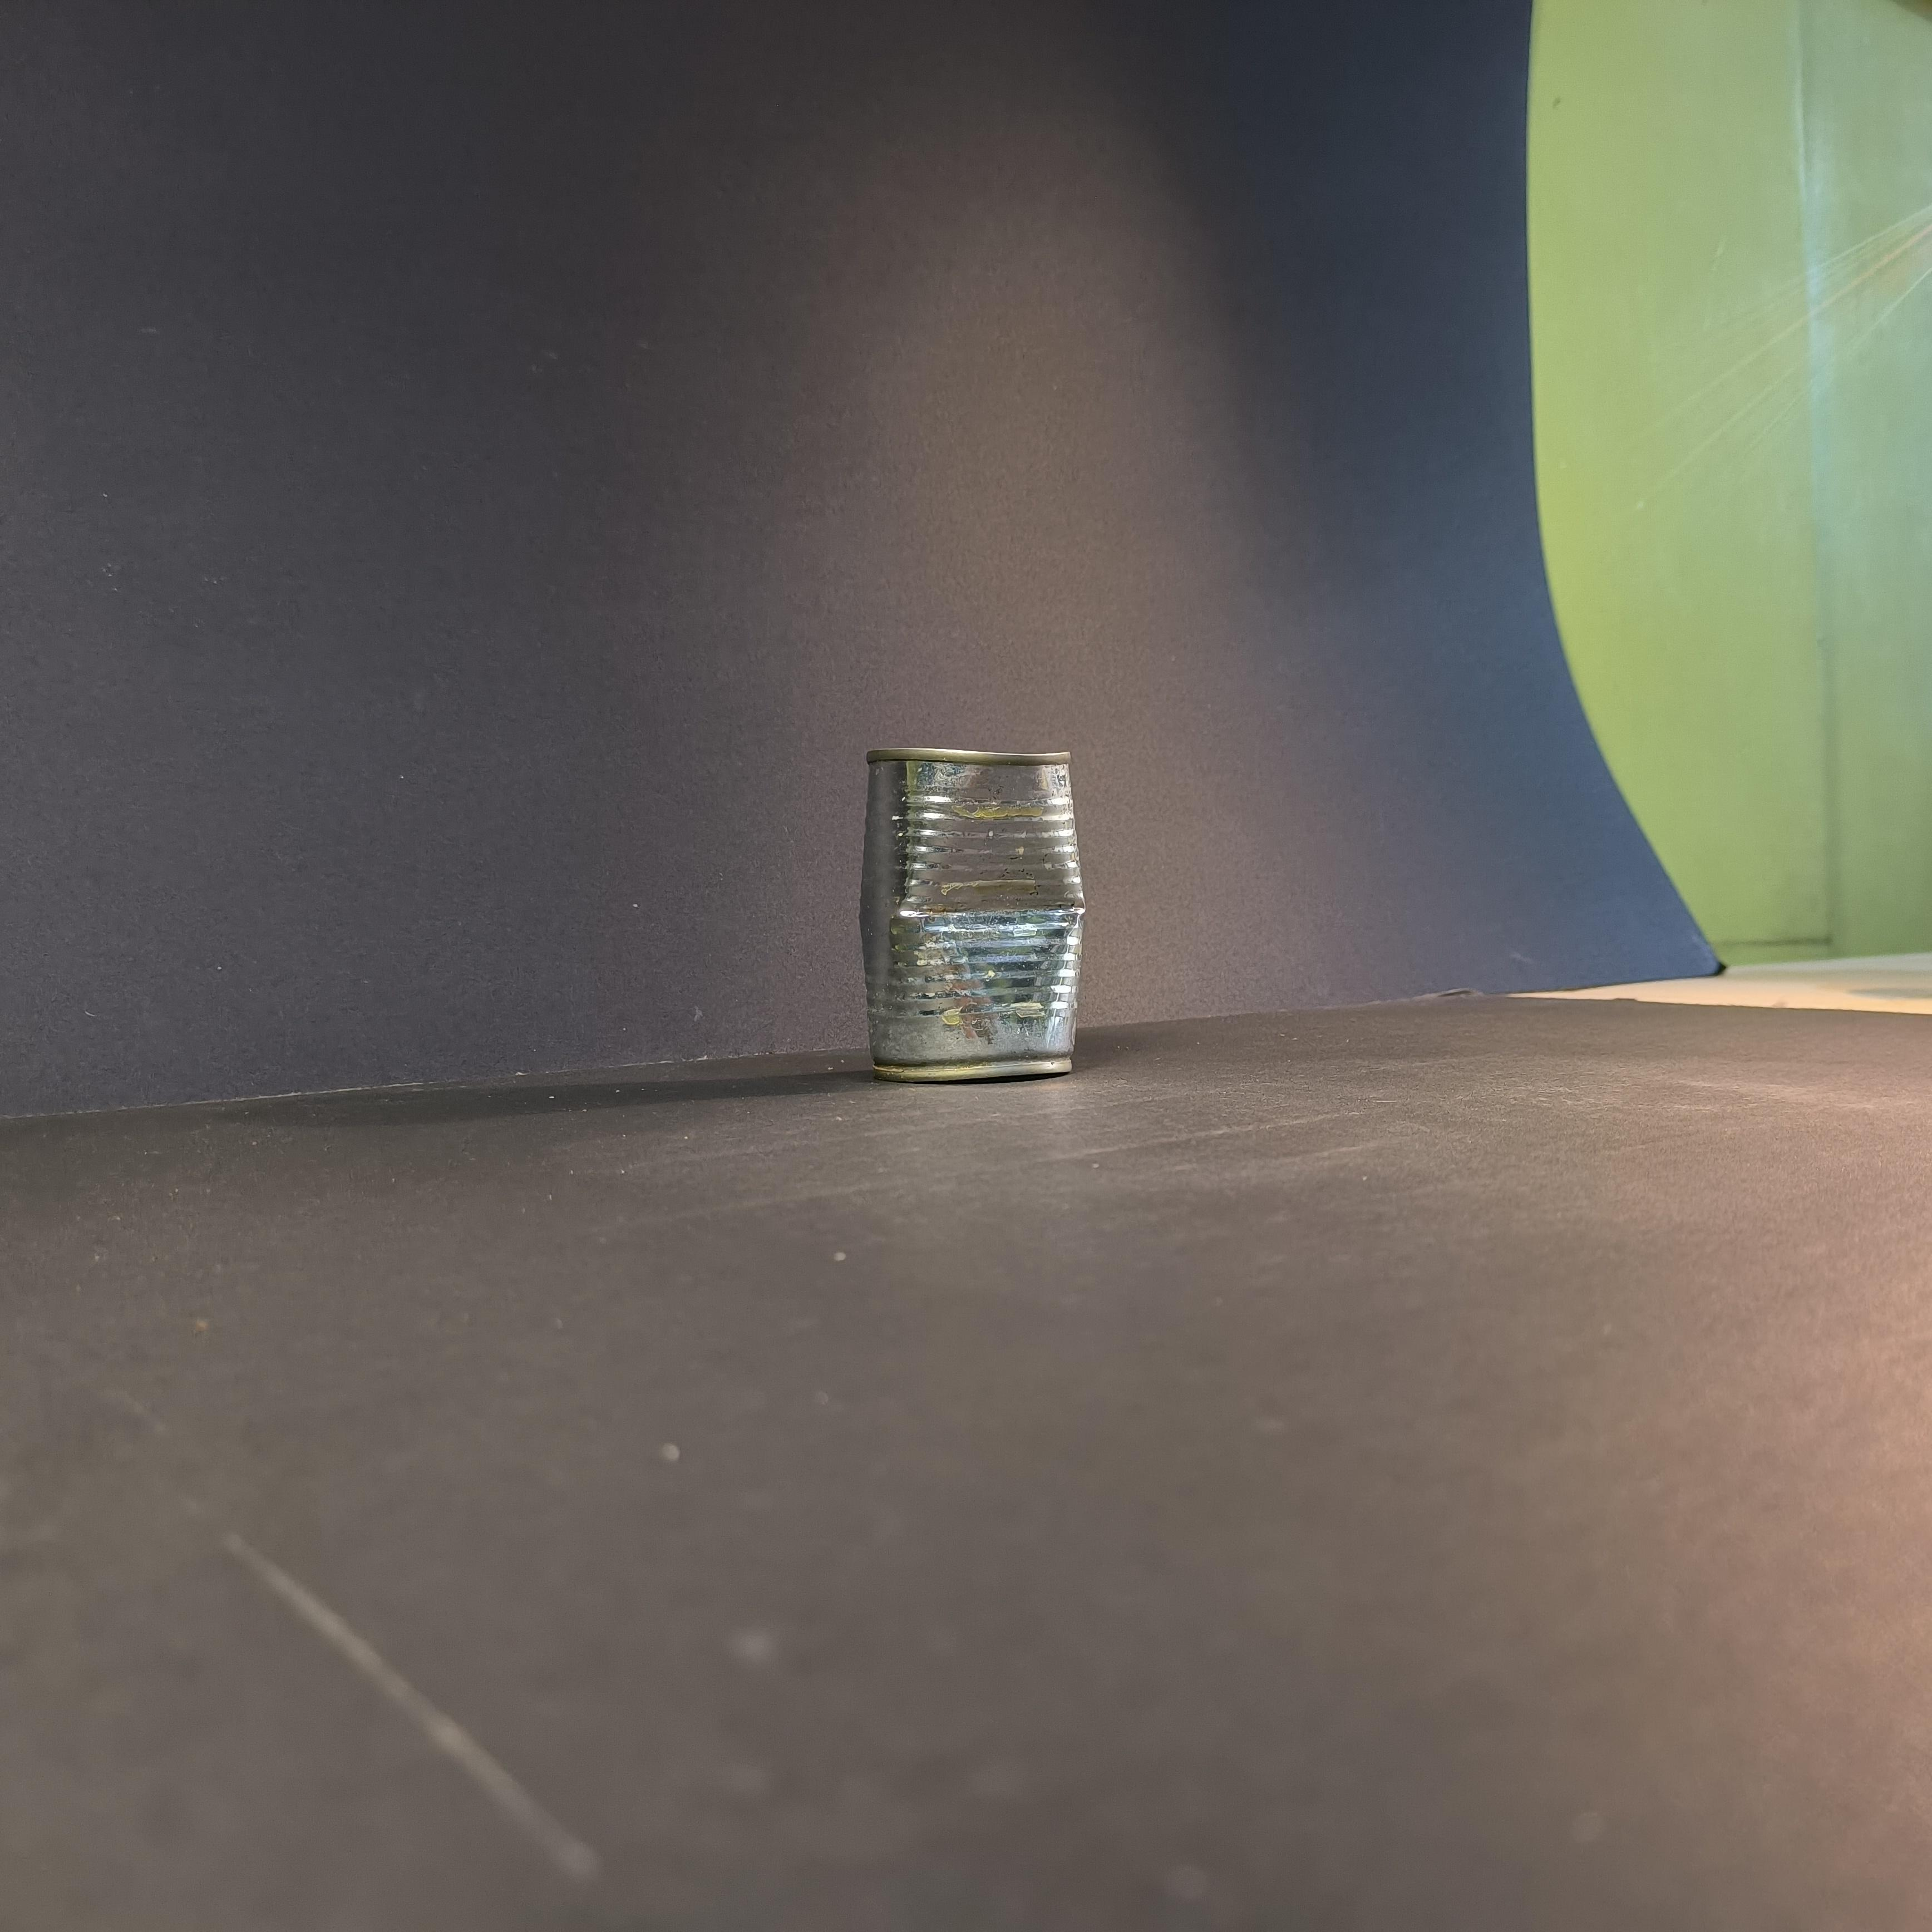Dented: (840, 713, 1093, 1090)
